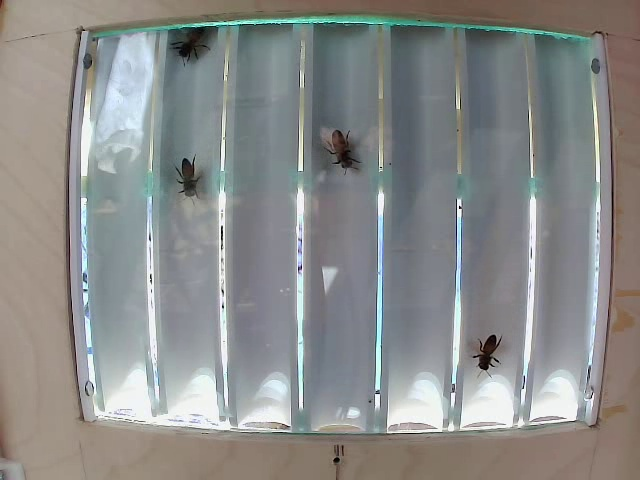bee: (159, 150, 220, 212), (470, 321, 517, 385), (309, 126, 358, 175)
